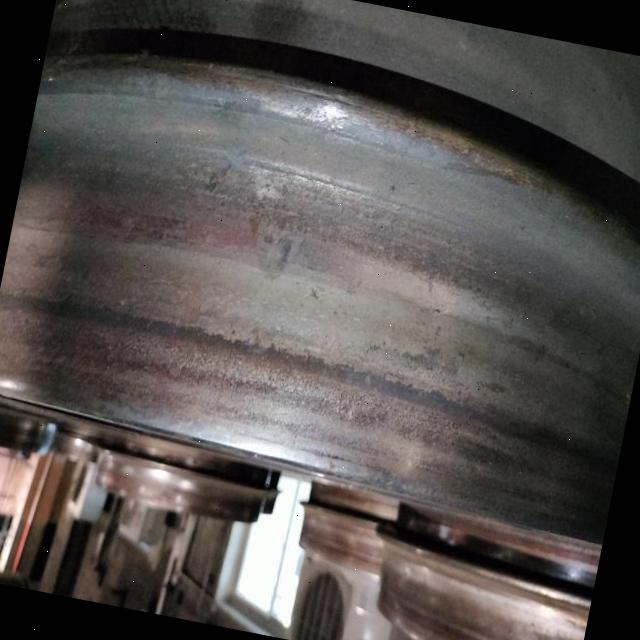Peeling: (198, 157, 239, 204)
Rollerpile: (259, 199, 304, 277)
